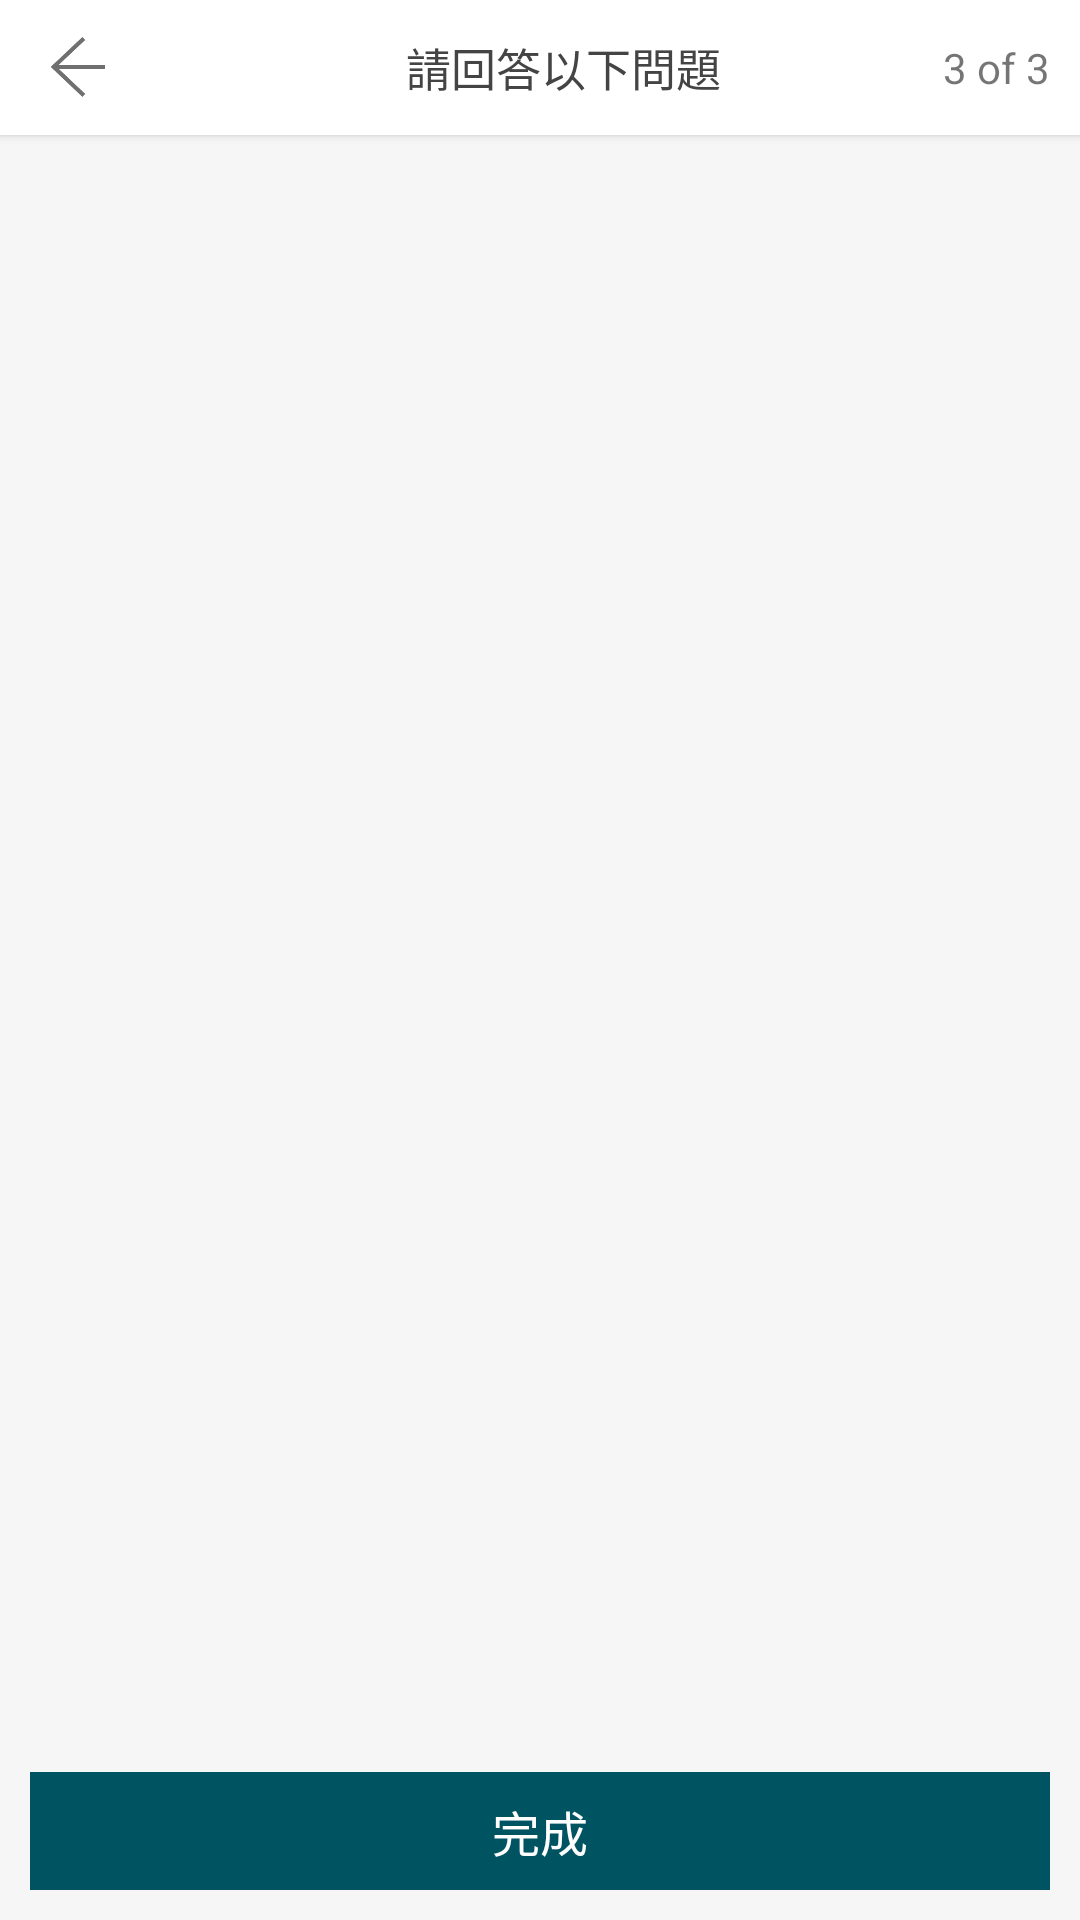

Icons on this 1080px×1920px Android screen, each with the point to tap as point (x, y):
back: point (78, 67)
